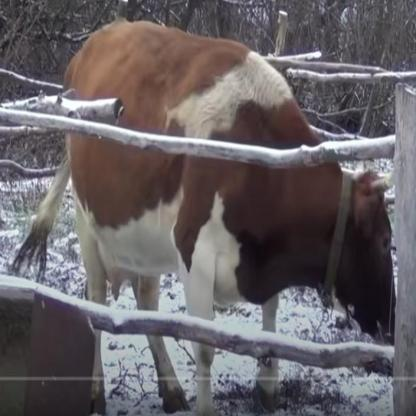cow: (11, 18, 396, 410)
